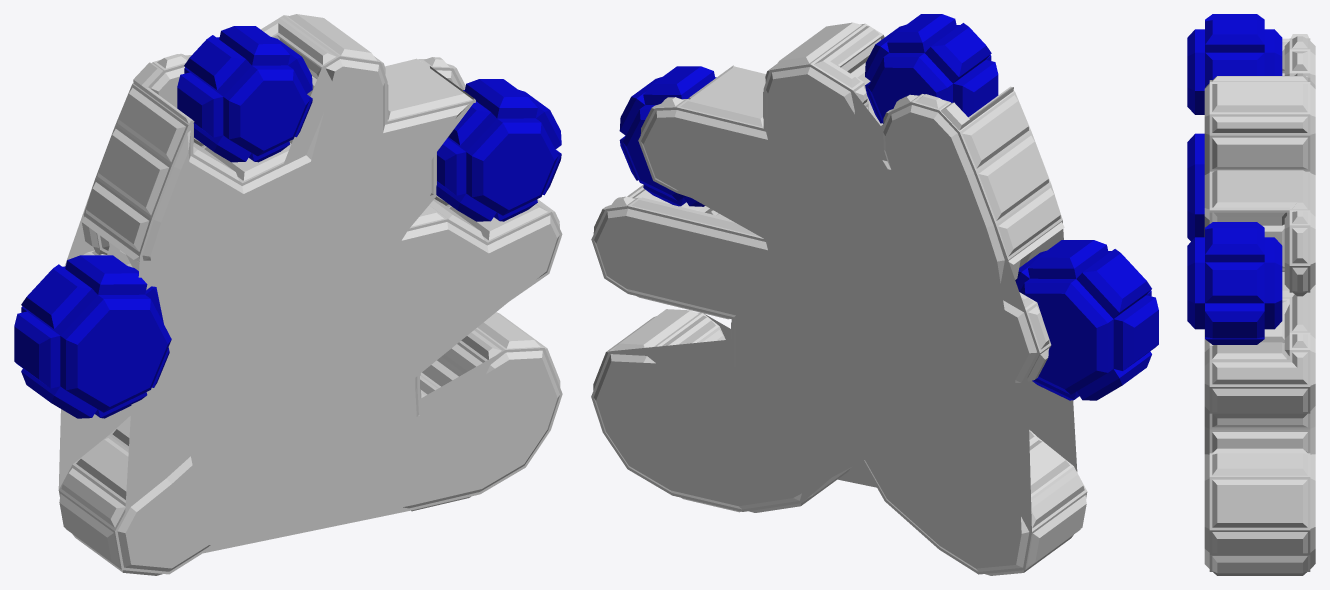
The model's file is Ch_China_先_01.fbx.
3 renders of one model, left to right at view 1: azimuth 30°, elevation 25°; view 2: azimuth 150°, elevation 25°; view 3: azimuth 270°, elevation 25°, orthographic. The views are drawn at different scales.
Visible parts, largest first — view 1: sphere1; view 2: sphere1; view 3: sphere1.
Part boxes in pixels (x1=…): sphere1: x1=14, y1=14, x2=562, y2=575; sphere1: x1=591, y1=14, x2=1158, y2=575; sphere1: x1=1187, y1=14, x2=1315, y2=575.
Bounding box in the file's own units: 1.07 × 0.9985 × 0.2541.
